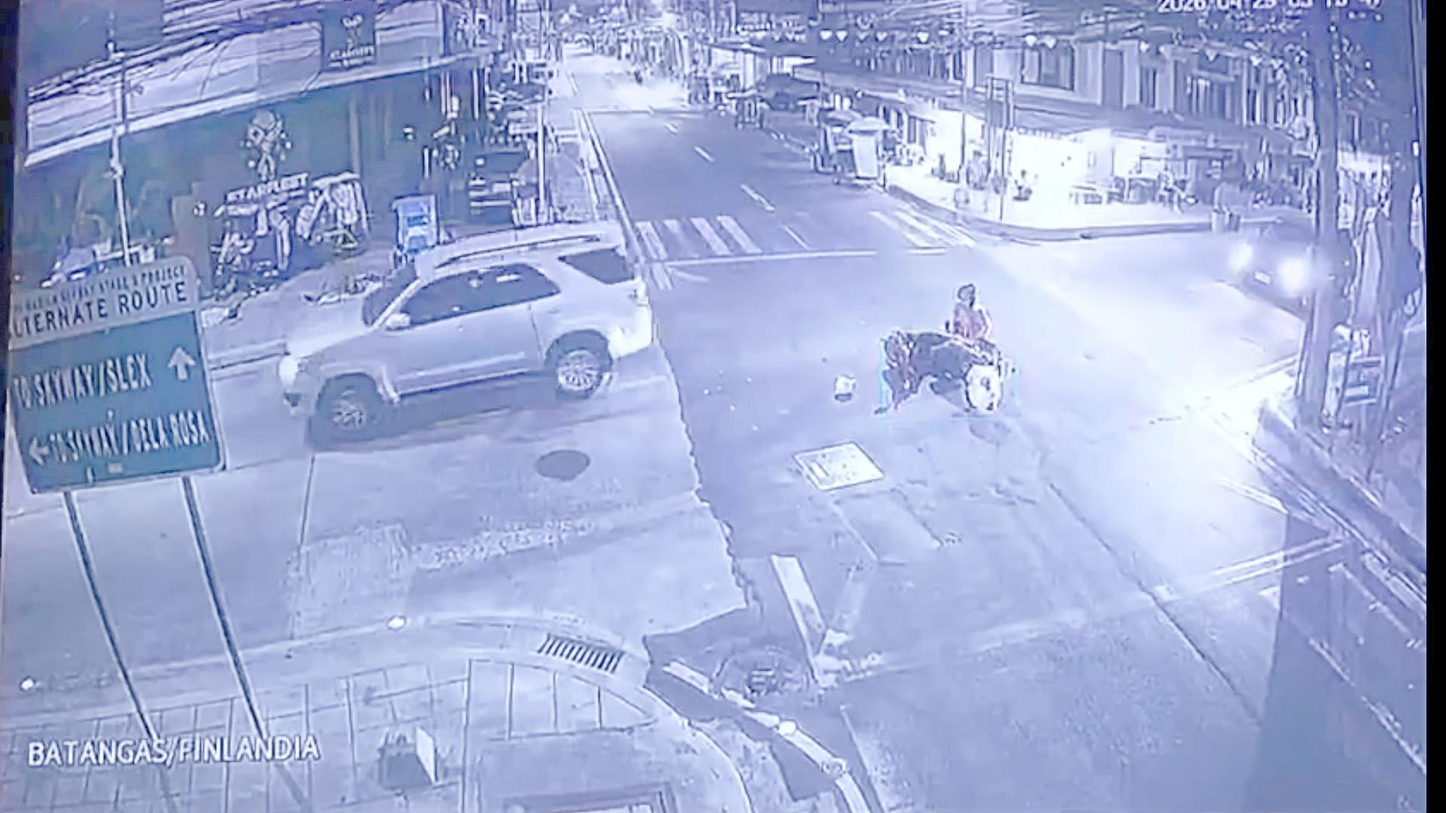Car: (282, 204, 657, 423)
Motor: (881, 303, 1010, 415)
